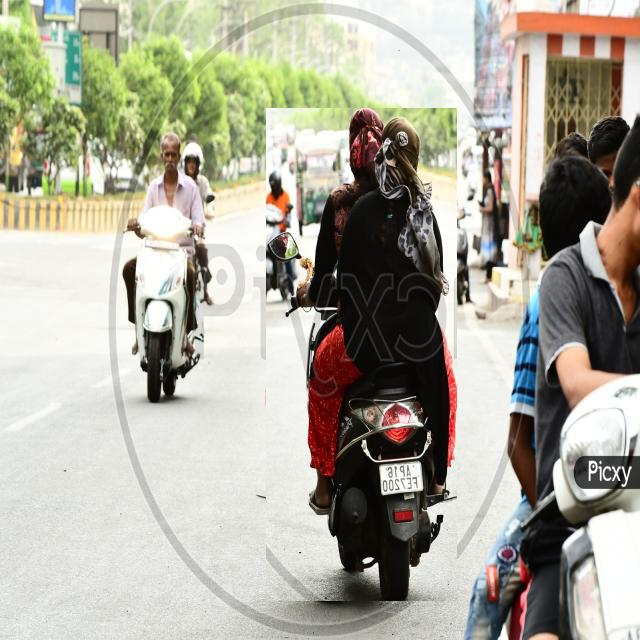motorcycle: (266, 108, 457, 601), (465, 114, 640, 639), (122, 133, 205, 401)
